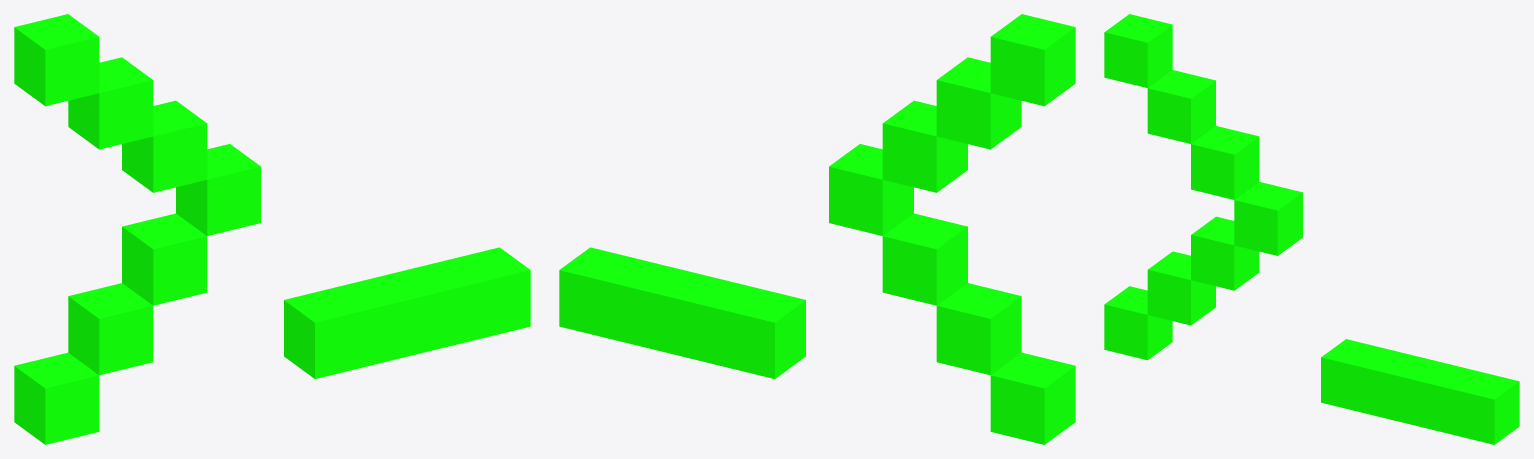
Rendered from cmd.glb.
3 renders of one model, left to right at view 1: azimuth 30°, elevation 25°; view 2: azimuth 150°, elevation 25°; view 3: azimuth 330°, elevation 25°, orthographic. The views are drawn at different scales.
Parts seen in each view (by area): view 1: cmd; view 2: cmd; view 3: cmd.
Part boxes in pixels (<box>): cmd: <box>14,14,530,444</box>; cmd: <box>559,14,1075,444</box>; cmd: <box>1104,14,1519,444</box>.
Size of the model in its own units: 9 by 7 by 1.
1 material, 1 textured.
